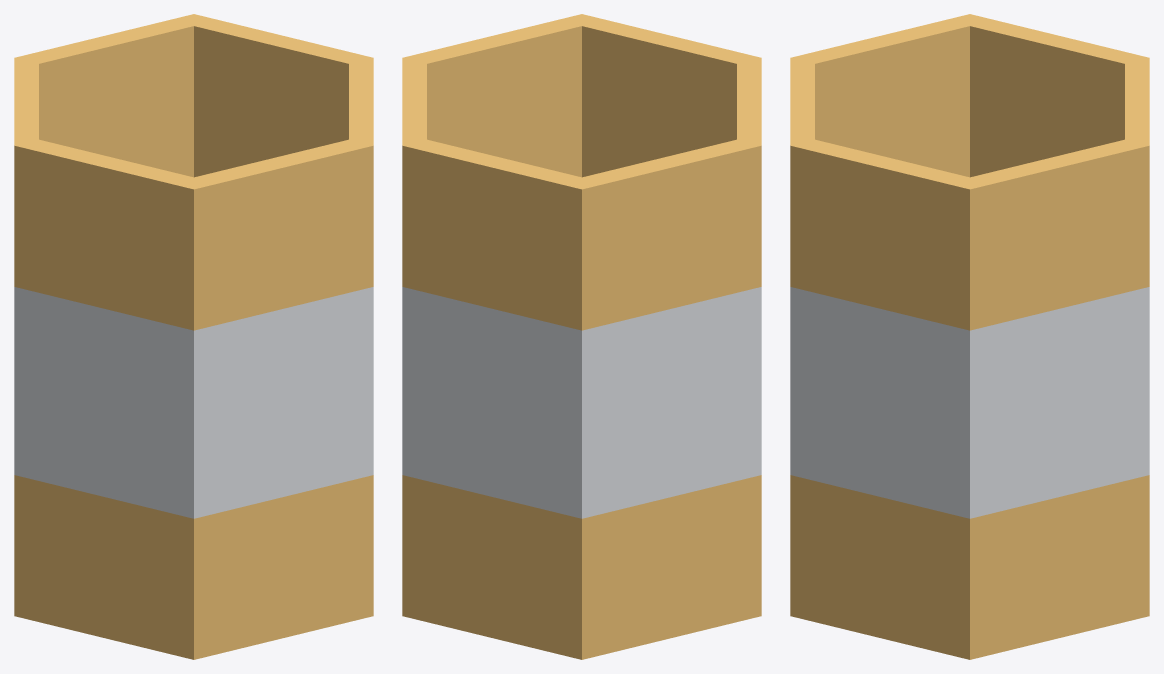
Rendered from barrel-empty.fbx.
3 views of the same model, side by side, from view 1: azimuth 30°, elevation 25°; view 2: azimuth 150°, elevation 25°; view 3: azimuth 270°, elevation 25° (orthographic).
Parts seen in each view (by area): view 1: barrel; view 2: barrel; view 3: barrel.
Boxes of the visible parts, box(x1,y1,x2,y2) form: barrel: box(14, 14, 373, 659); barrel: box(402, 14, 761, 659); barrel: box(790, 14, 1149, 659).
Size of the model in its own units: 20 by 25 by 17.32.
